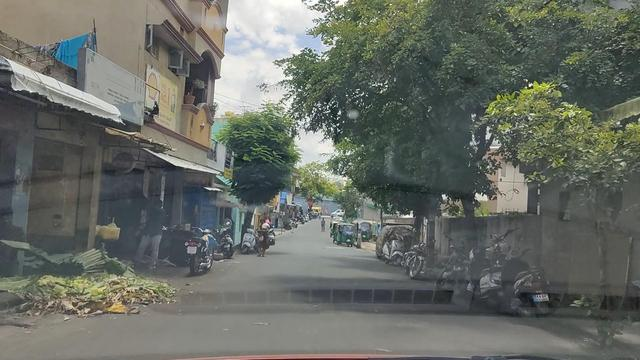LMV: (189, 227, 212, 273), (333, 223, 355, 247)
